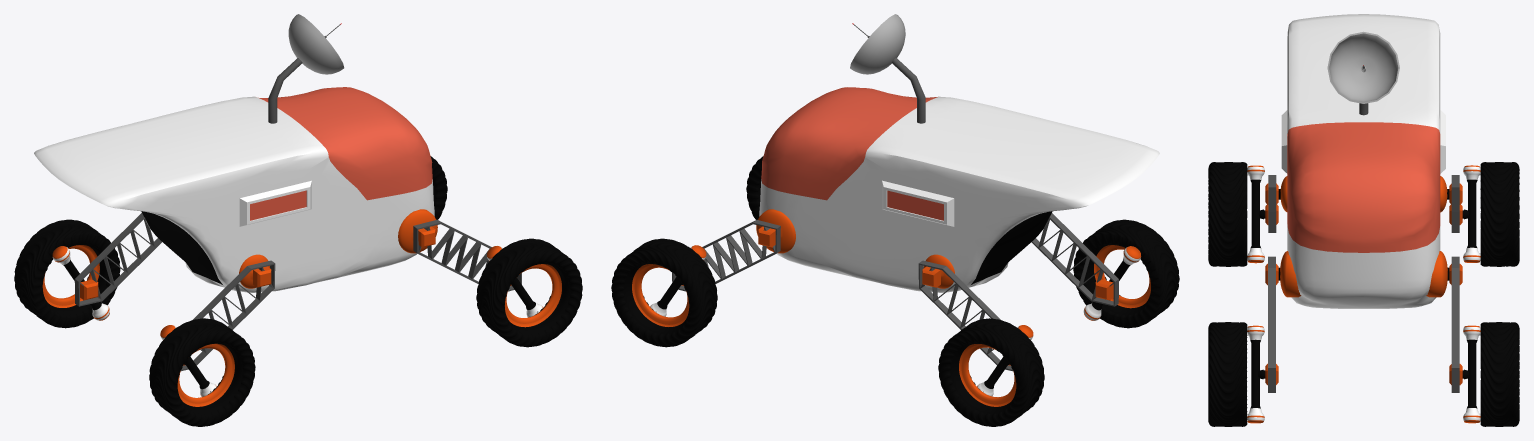
Rendered from Buggy.fbx.
3 renders of one model, left to right at view 1: azimuth 30°, elevation 25°; view 2: azimuth 150°, elevation 25°; view 3: azimuth 270°, elevation 25°, orthographic.
Visible parts, largest first — view 1: Base, Wheel 2, Wheel 4, Wheel 3, Frame 3, Frame 2, Frame 4, ConnectionPoint 2, Support 3, Wheel 1, Support 4, Support 2; view 2: Base, Wheel 1, Wheel 3, Wheel 4, Frame 4, Frame 1, Frame 3, ConnectionPoint 1, Support 4, Wheel 2, Support 3, Support 1; view 3: Base, Wheel 1, Wheel 3, Wheel 4, Wheel 2, Frame 1, Frame 2, Support 1, Support 4, Support 2, Support 3, Frame 4 (+3 smaller).
Boxes of the visible parts, x1,y1,x2,y2 form: Base: (34, 14, 434, 292); Wheel 2: (476, 238, 582, 347); Wheel 4: (149, 318, 255, 426); Wheel 3: (14, 219, 120, 328); Frame 3: (74, 213, 161, 306); Frame 2: (413, 219, 521, 291); Frame 4: (181, 260, 275, 371); ConnectionPoint 2: (398, 209, 437, 253); Support 3: (52, 246, 109, 320); Wheel 1: (430, 156, 447, 219); Support 4: (160, 325, 216, 396); Support 2: (487, 246, 543, 317); Base: (759, 14, 1159, 292); Wheel 1: (611, 238, 717, 347); Wheel 3: (938, 318, 1044, 426); Wheel 4: (1073, 219, 1179, 328); Frame 4: (1031, 213, 1118, 306); Frame 1: (672, 220, 780, 291); Frame 3: (918, 260, 1013, 371); ConnectionPoint 1: (756, 209, 795, 253); Support 4: (1083, 246, 1141, 320); Wheel 2: (746, 156, 763, 219); Support 3: (977, 325, 1033, 396); Support 1: (650, 245, 706, 316); Base: (1281, 14, 1445, 308); Wheel 1: (1480, 322, 1519, 426); Wheel 3: (1480, 162, 1519, 266); Wheel 4: (1208, 162, 1247, 266); Wheel 2: (1208, 322, 1247, 426); Frame 1: (1449, 256, 1462, 392); Frame 2: (1265, 256, 1278, 392); Support 1: (1463, 325, 1480, 423); Support 4: (1247, 165, 1264, 263); Support 2: (1247, 325, 1264, 423); Support 3: (1463, 165, 1480, 262); Frame 4: (1265, 175, 1278, 232).
Size of the model in its own units: 2216 by 1476 by 1331.
